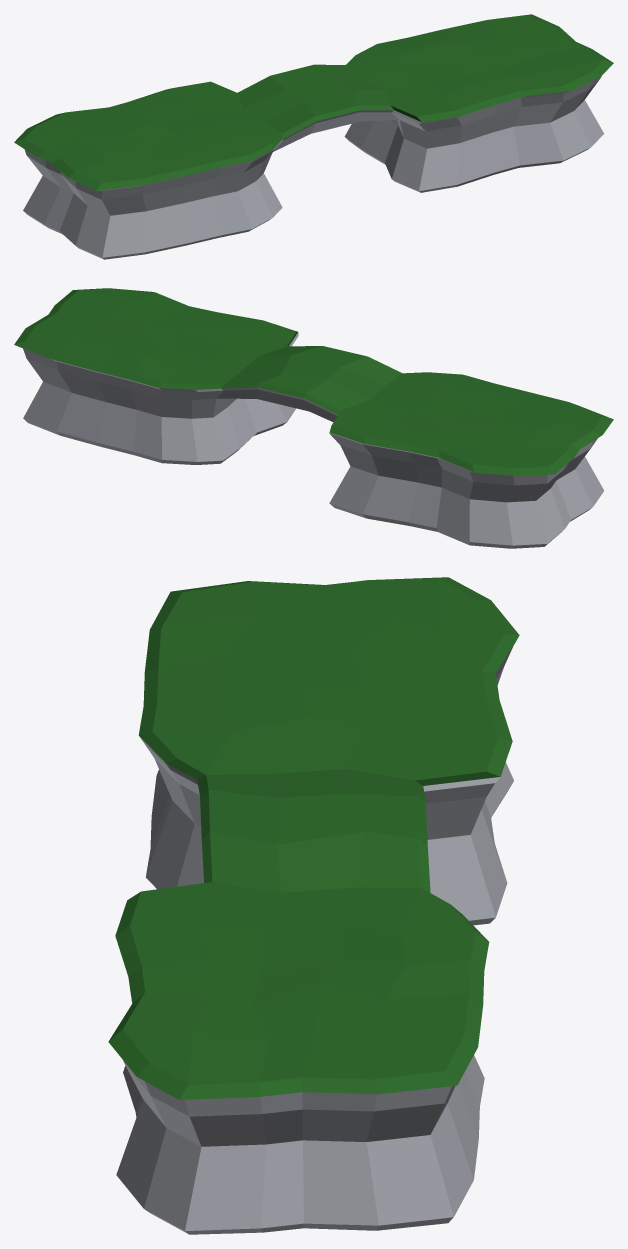
File: cliff5.fbx
3 renders of one model, top to bottom at view 1: azimuth 30°, elevation 25°; view 2: azimuth 150°, elevation 25°; view 3: azimuth 270°, elevation 25°, orthographic. The views are drawn at different scales.
Parts seen in each view (by area): view 1: Plane.001; view 2: Plane.001; view 3: Plane.001.
Boxes of the visible parts, <box> form: Plane.001: <box>14,14,613,259</box>; Plane.001: <box>14,288,613,548</box>; Plane.001: <box>108,577,519,1234</box>.
Size of the model in its own units: 776 by 121 by 260.
